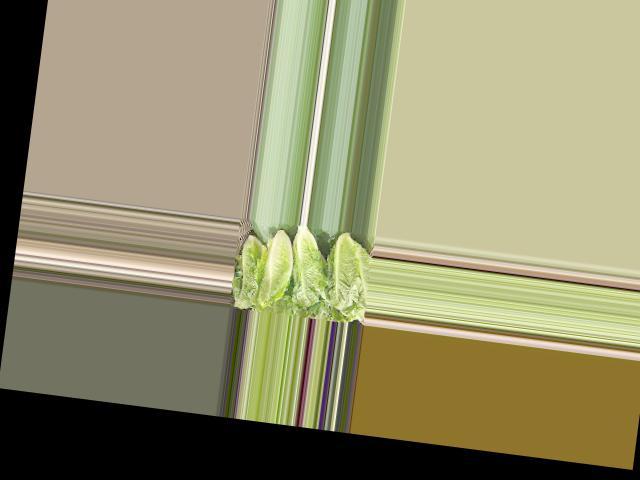lettuce: (234, 236, 265, 311)
